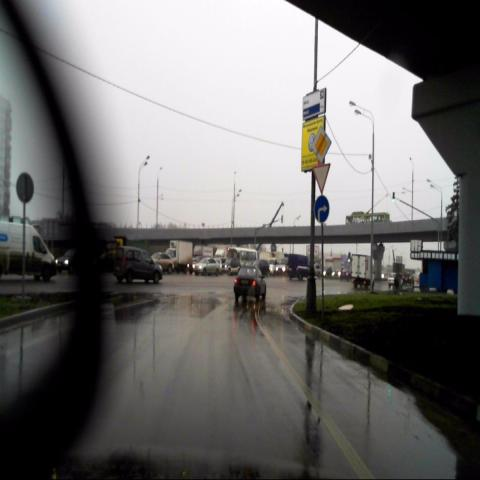2_2: (312, 128, 332, 163)
2_4: (312, 164, 330, 194)
4_1_2: (314, 195, 329, 223)
